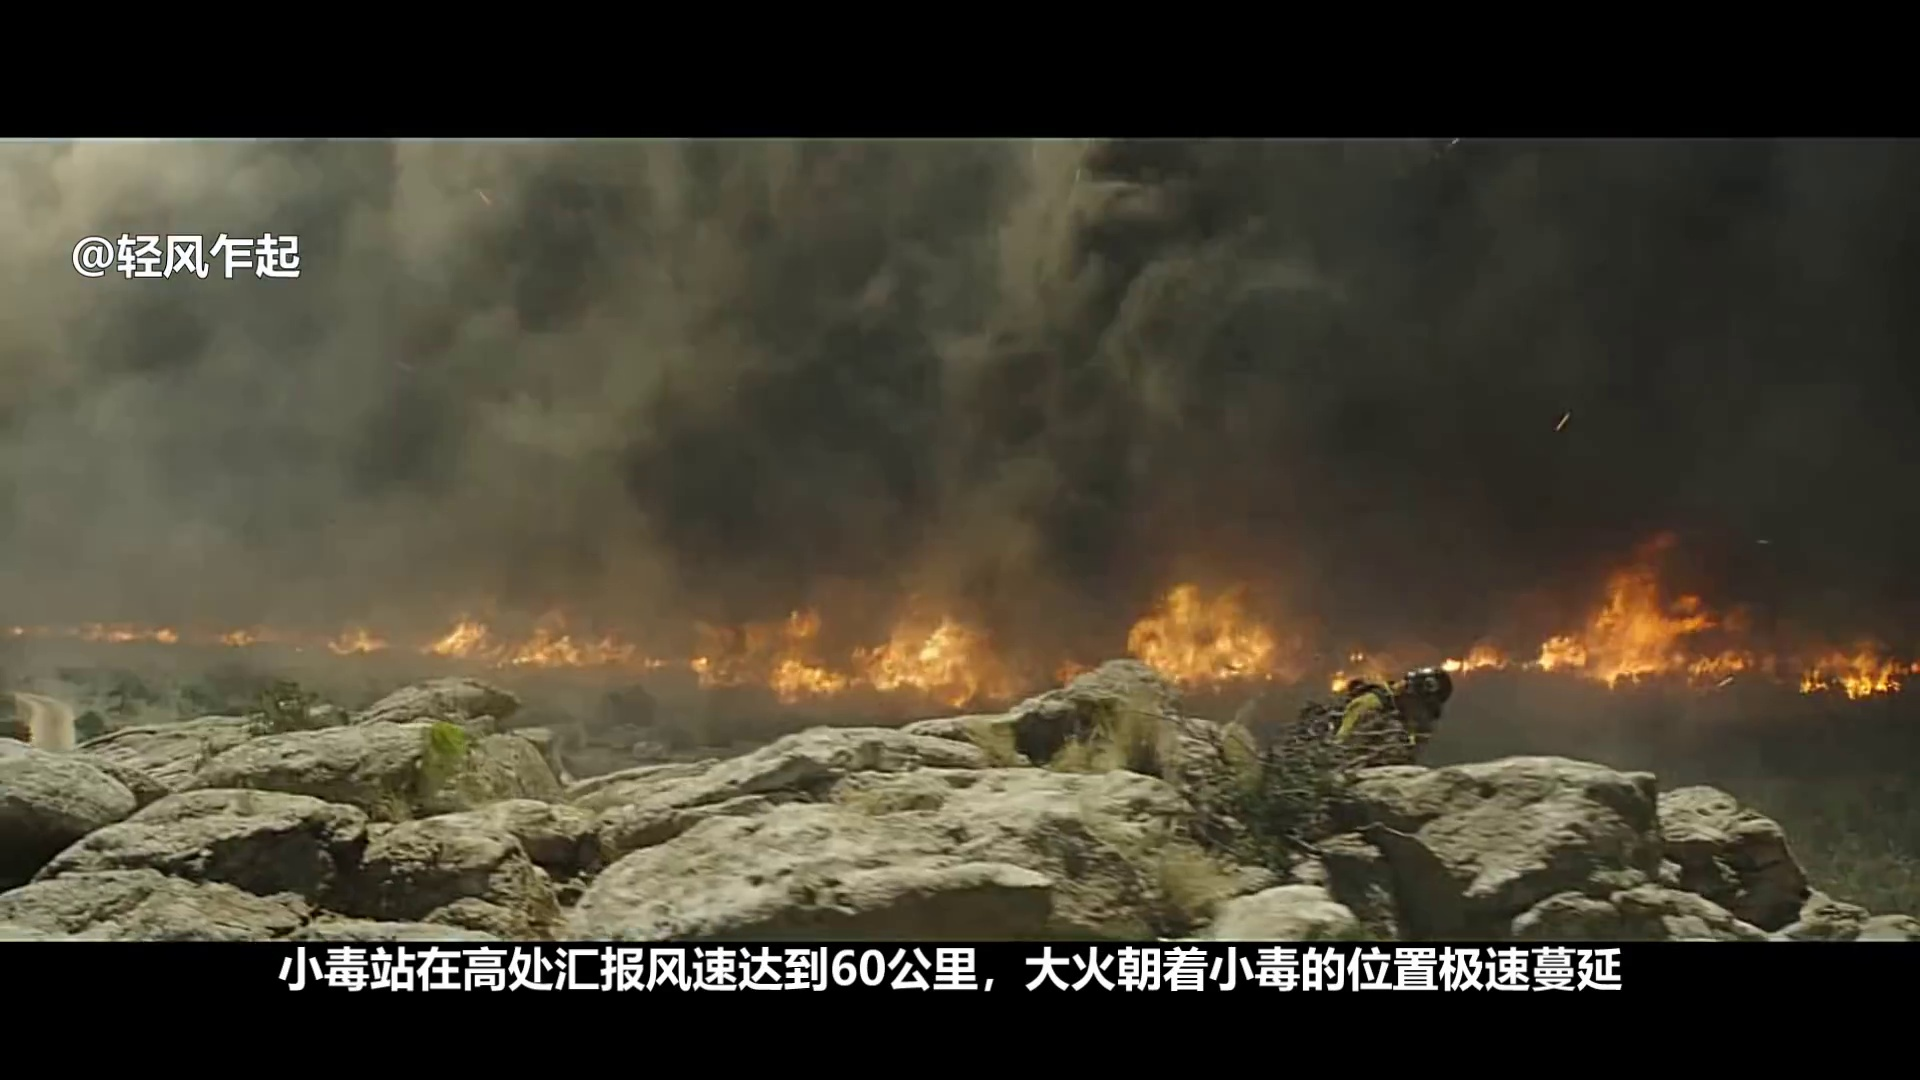fire: (1542, 562, 1697, 670), (1135, 582, 1273, 676), (862, 613, 969, 684), (1836, 654, 1896, 696), (438, 616, 489, 655), (777, 661, 839, 692)
